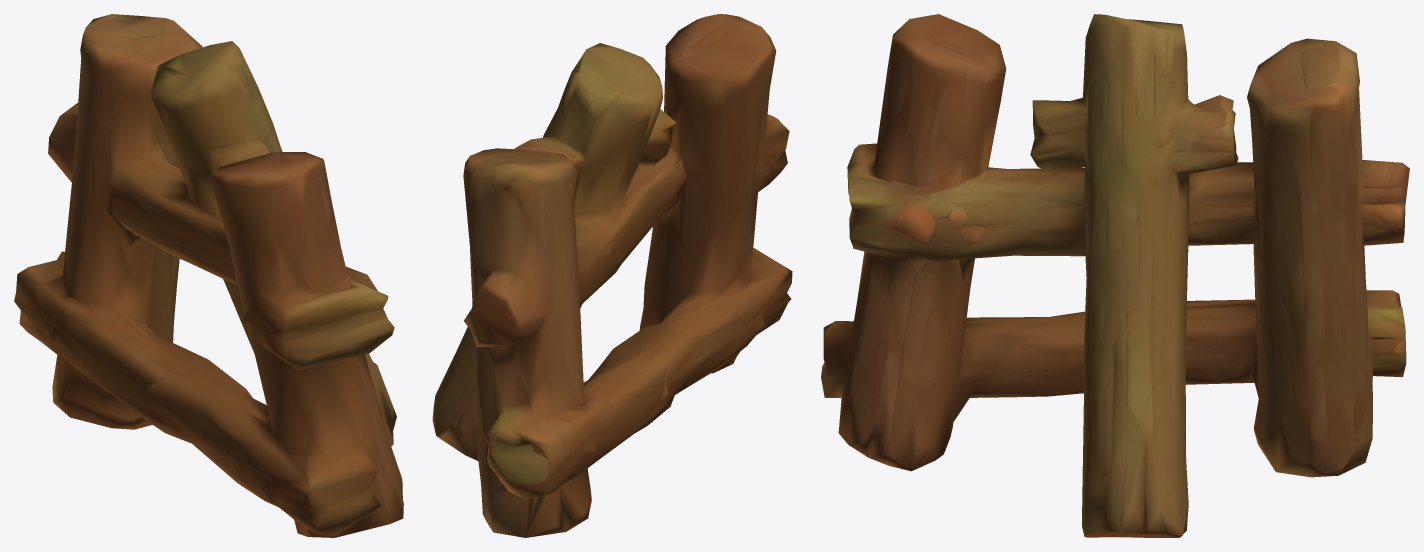
Rendered from pro_fence-DYbZjnrF.glb.
3 views of the same model, side by side, from view 1: azimuth 30°, elevation 25°; view 2: azimuth 150°, elevation 25°; view 3: azimuth 270°, elevation 25° (orthographic). The views are drawn at different scales.
Visible parts, largest first — view 1: tripo_node_0768f95d-806e-45a8-8c9a-80798308f990; view 2: tripo_node_0768f95d-806e-45a8-8c9a-80798308f990; view 3: tripo_node_0768f95d-806e-45a8-8c9a-80798308f990.
Boxes of the visible parts, x1=… form: tripo_node_0768f95d-806e-45a8-8c9a-80798308f990: x1=14, y1=14, x2=403, y2=537; tripo_node_0768f95d-806e-45a8-8c9a-80798308f990: x1=432, y1=14, x2=792, y2=537; tripo_node_0768f95d-806e-45a8-8c9a-80798308f990: x1=821, y1=14, x2=1409, y2=537.
Size of the model in its own units: 0.5394 by 0.8909 by 1.
1 material, 1 textured.
